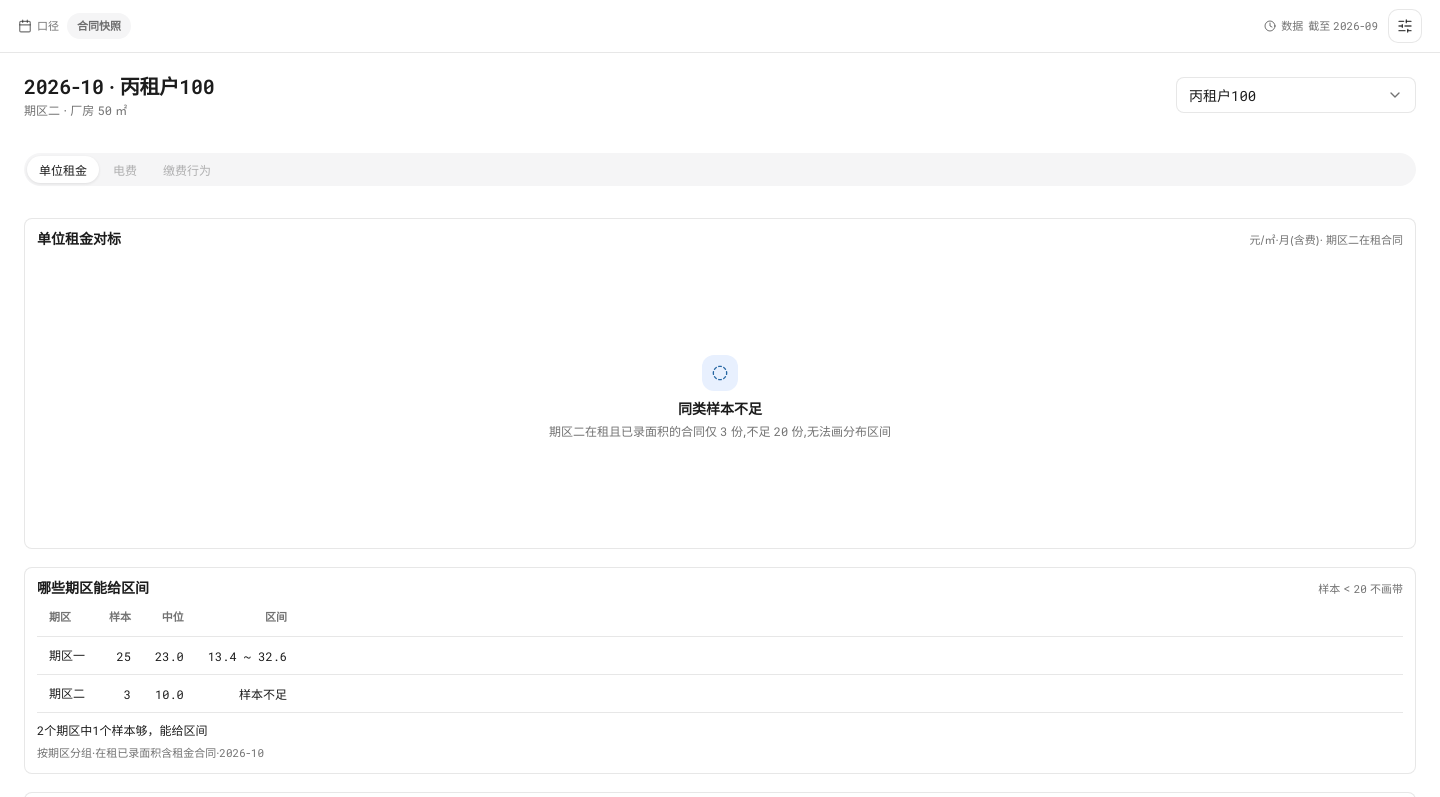
it: TenantPeerView · 单位租金对标挂载测 › ❗头部:期间 · 租户 · 期区 · 物业类型 面积
Click the button with class "fp-tp-trigger" at (1296, 95), box [1176,77,1416,113]
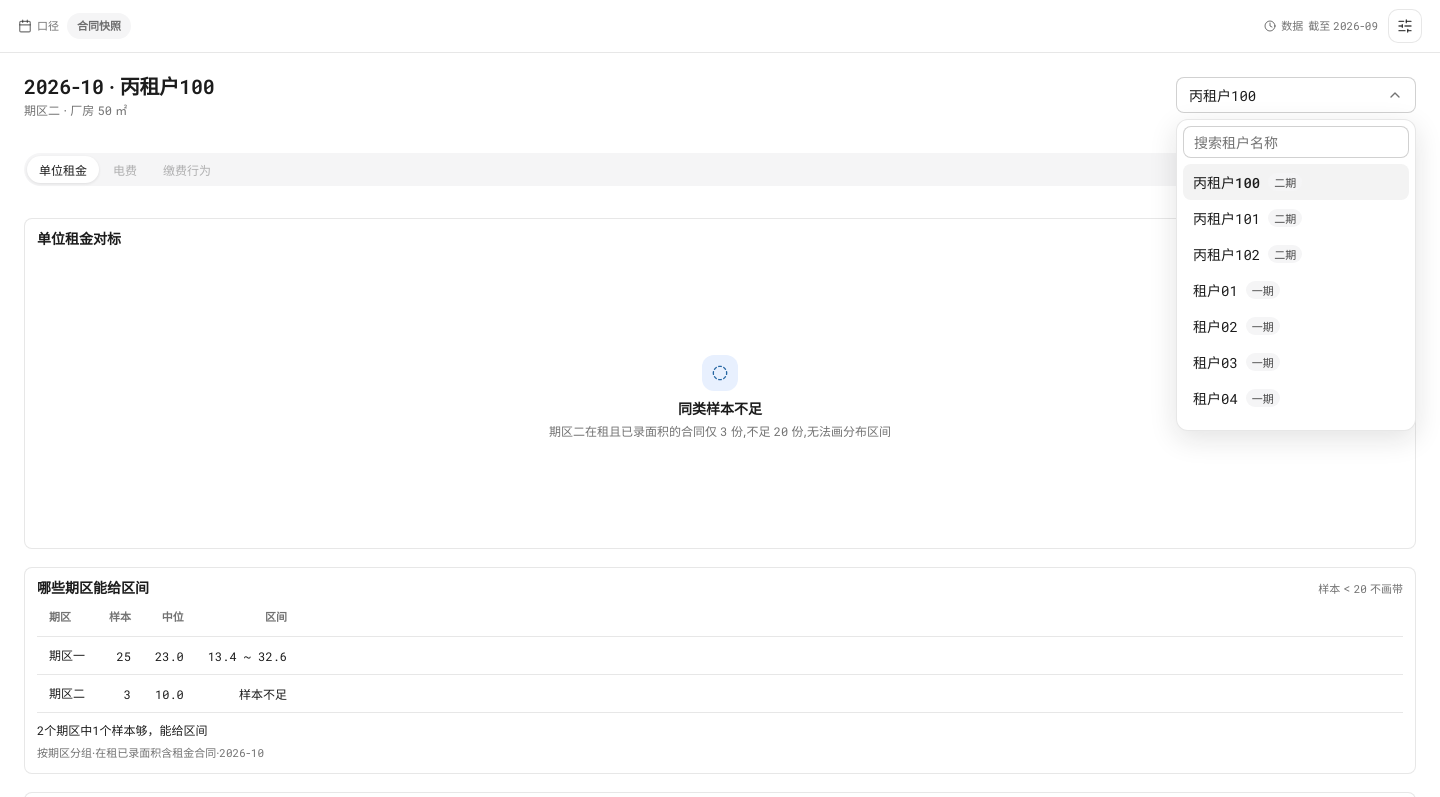
Expected: the option with class "fp-tp-item" showing "租户01 一期" is shown
Click the option with class "fp-tp-item" showing "租户01 一期" at (1296, 290), box [1183,272,1409,308]
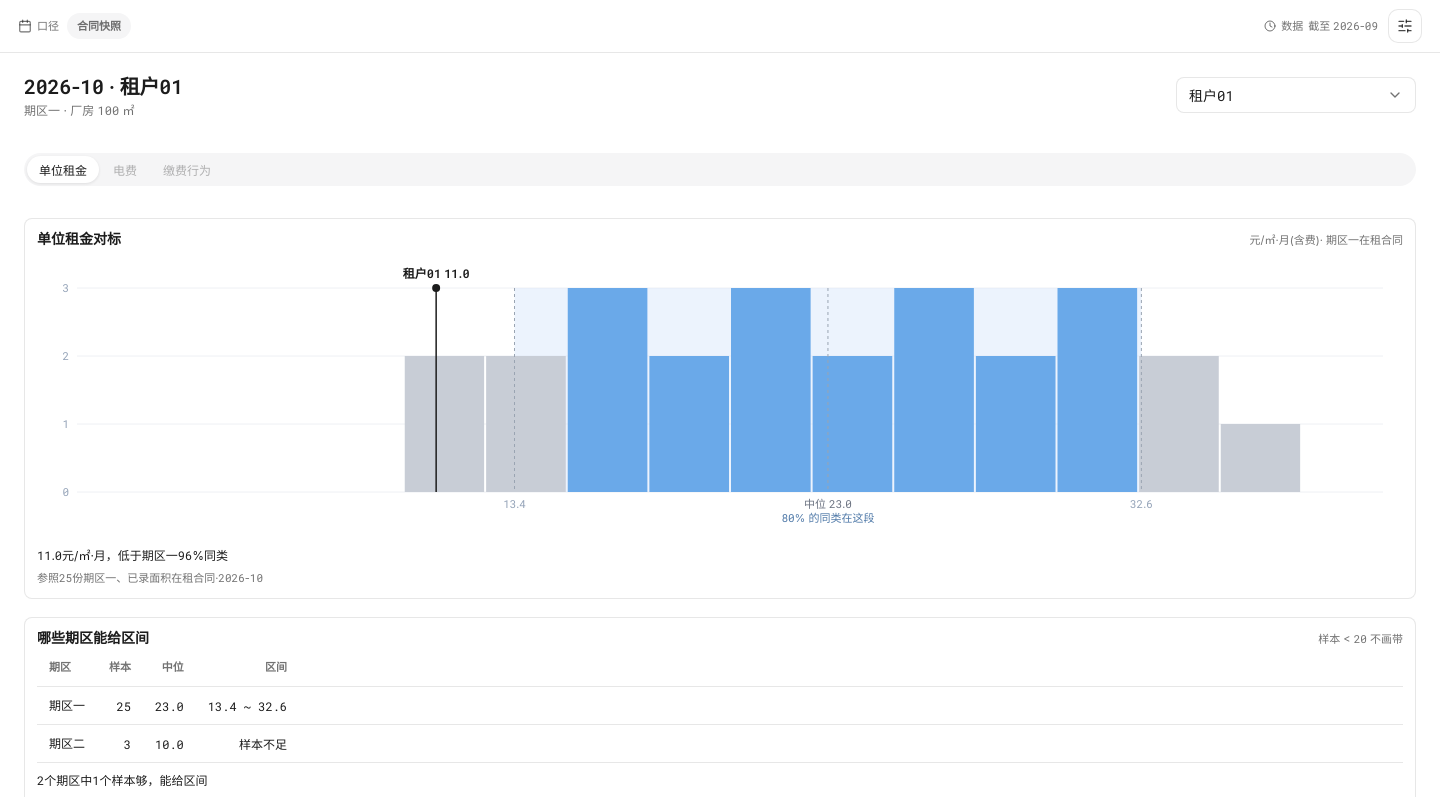
Expected: the text "期区一" is shown, [24,103,135,118]
Expected: the text "租户01" is shown, [24,75,183,99]
Expected: the text "期区一 · 厂房 100 ㎡" is shown, [24,103,135,118]
